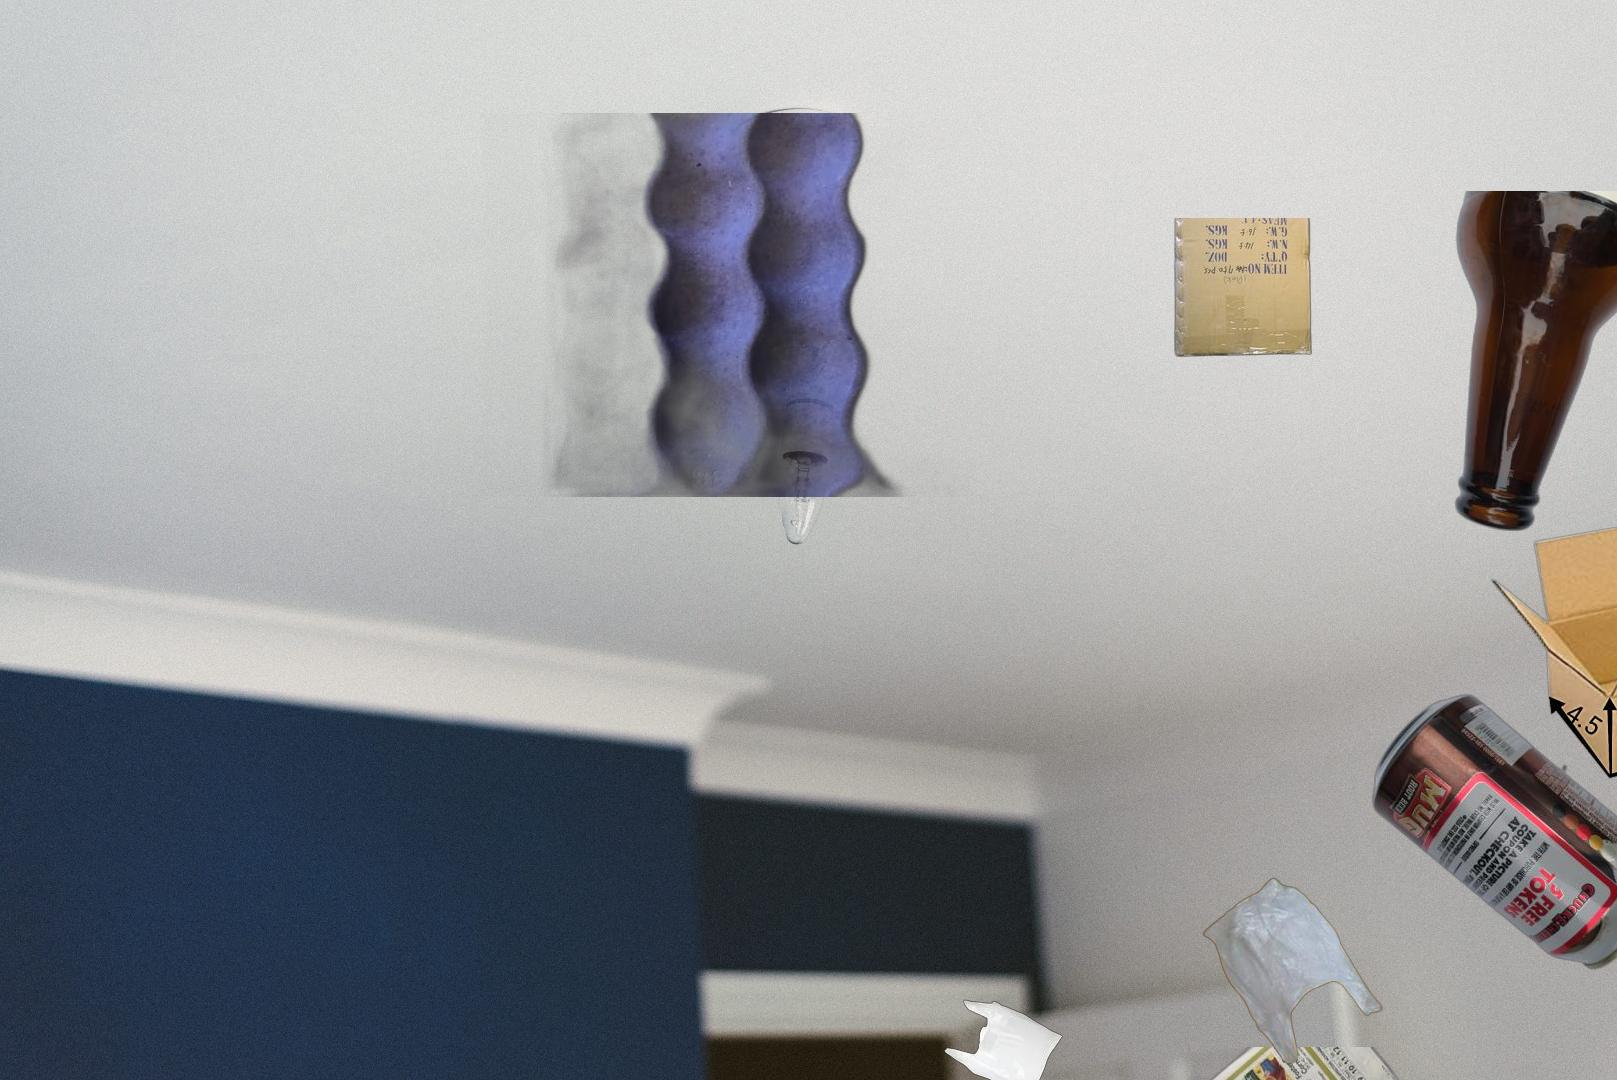glass: (1451, 190, 1617, 533)
metal-cans: (1368, 692, 1617, 972)
paper: (480, 113, 972, 497), (1078, 1047, 1590, 1080)
plastic-bag: (1200, 875, 1384, 1067), (906, 997, 1074, 1080)
trashbox-cardboard: (1489, 513, 1617, 781), (1172, 218, 1315, 360)
